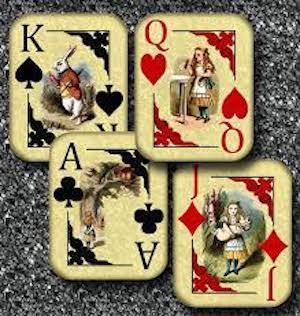AceOfClubs: (47, 130, 168, 281)
JackOfDiamonds: (171, 160, 291, 310)
KingOfSpades: (9, 8, 126, 157)
QueenOfHearts: (131, 13, 257, 163)
